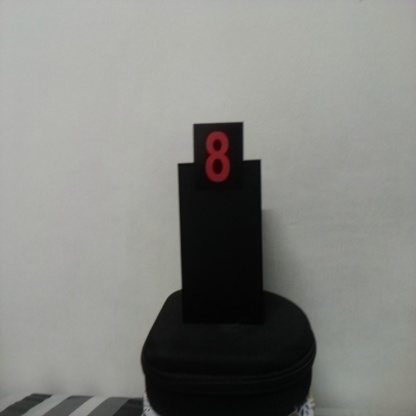id_8: (193, 124, 244, 199)
